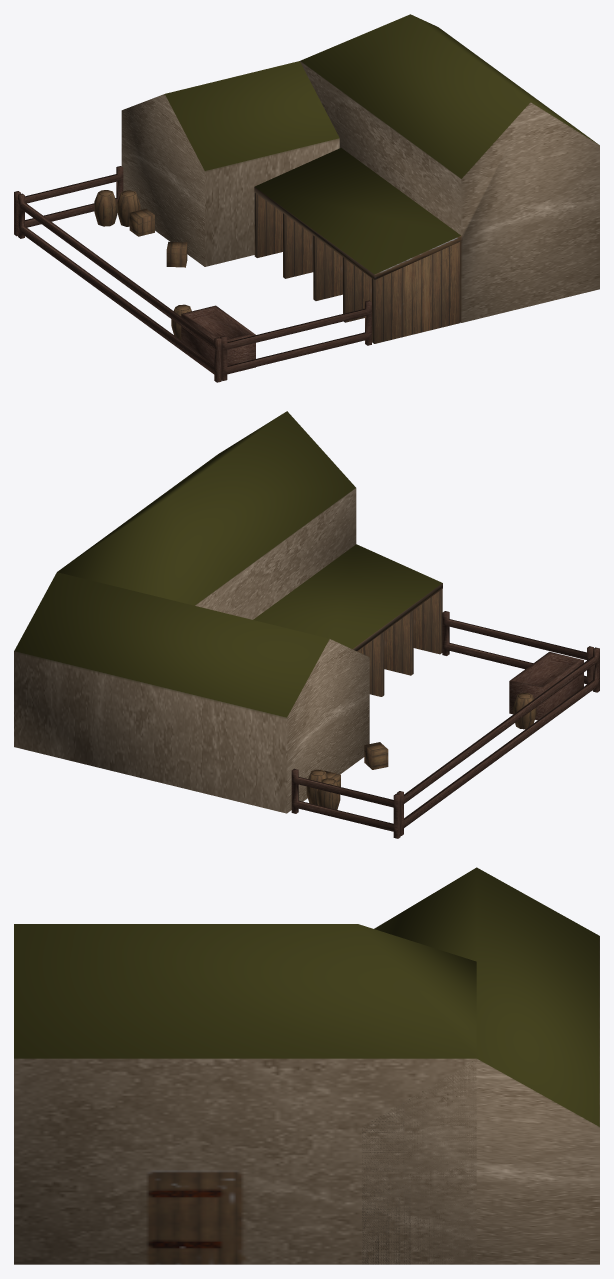
Rendered from medieval_stable.glb.
The picture shows the model from 3 angles, top to bottom: view 1: azimuth 30°, elevation 25°; view 2: azimuth 150°, elevation 25°; view 3: azimuth 270°, elevation 25°; orthographic projection. The views are drawn at different scales.
Visible parts, largest first — view 1: Object_2; view 2: Object_2; view 3: Object_2.
Boxes of the visible parts, x1=… form: Object_2: x1=14, y1=14, x2=599, y2=382; Object_2: x1=14, y1=411, x2=599, y2=838; Object_2: x1=14, y1=867, x2=599, y2=1264.
Bounding box in the file's own units: 111 × 56.23 × 102.
Materials: 1 (1 with a texture image).
